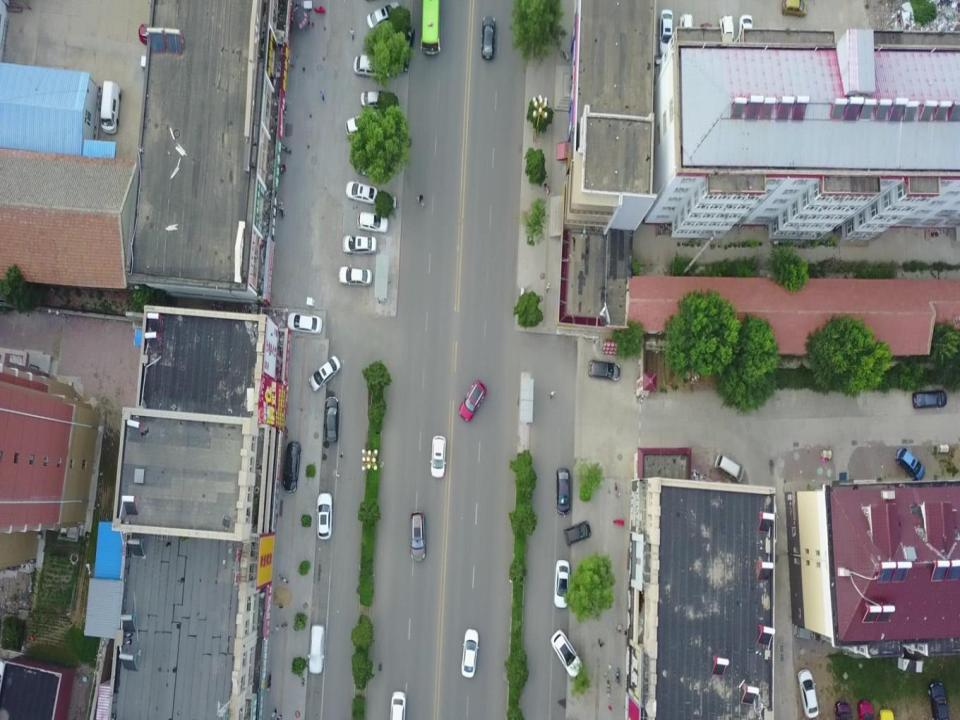bus: (419, 0, 441, 56)
car: (551, 628, 583, 678), (459, 379, 487, 422), (308, 356, 341, 392), (796, 669, 819, 719), (366, 1, 400, 31), (282, 441, 302, 492), (896, 446, 924, 482), (307, 622, 325, 674), (461, 628, 479, 678), (409, 510, 426, 562), (928, 680, 950, 720), (287, 311, 323, 335), (345, 180, 379, 205), (344, 112, 375, 139), (554, 559, 571, 608), (429, 435, 447, 479), (316, 492, 332, 540), (563, 519, 591, 546), (658, 10, 673, 58), (338, 265, 372, 286), (556, 468, 571, 515), (342, 234, 377, 254), (912, 390, 947, 410), (357, 212, 389, 233), (588, 360, 620, 381), (678, 12, 694, 53), (482, 15, 496, 60), (325, 397, 339, 442), (738, 14, 753, 56), (718, 14, 734, 51), (699, 23, 714, 59), (361, 90, 387, 110), (782, 0, 808, 18), (834, 700, 854, 720), (858, 699, 874, 720)
van: (100, 80, 122, 135), (714, 454, 745, 483), (353, 55, 390, 79)
